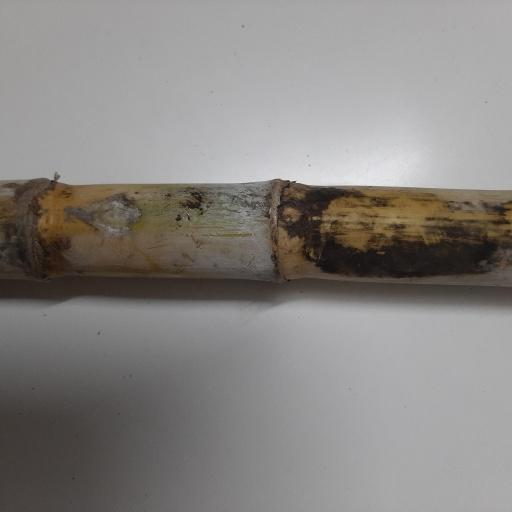Bud: (276, 201, 307, 230)
